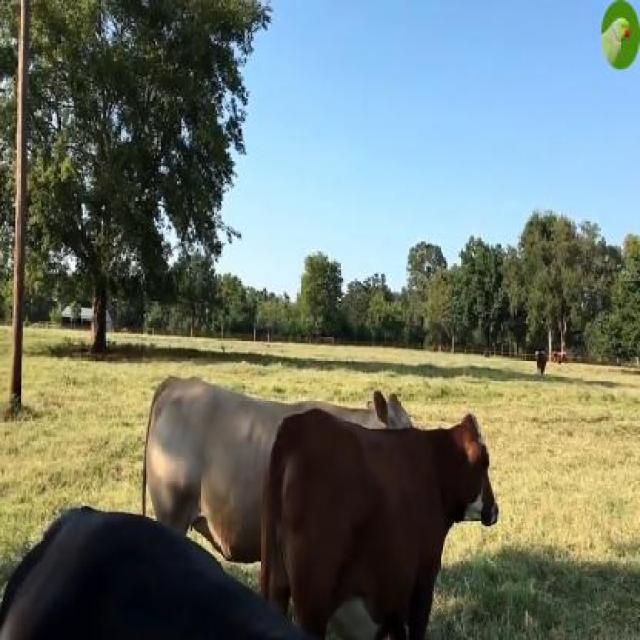Cow: (260, 409, 498, 637)
